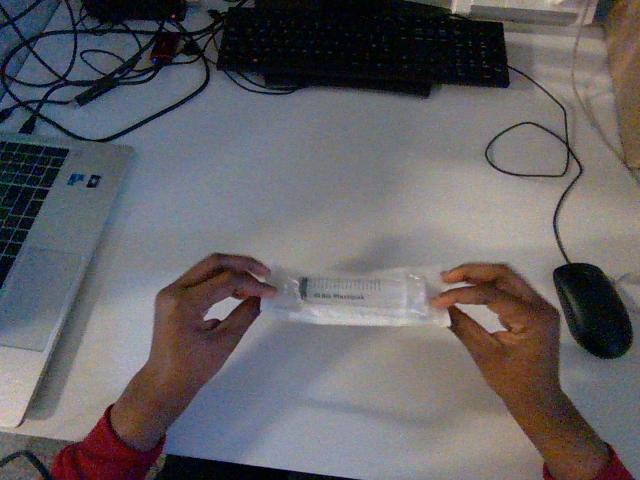syringe: (262, 267, 449, 326)
